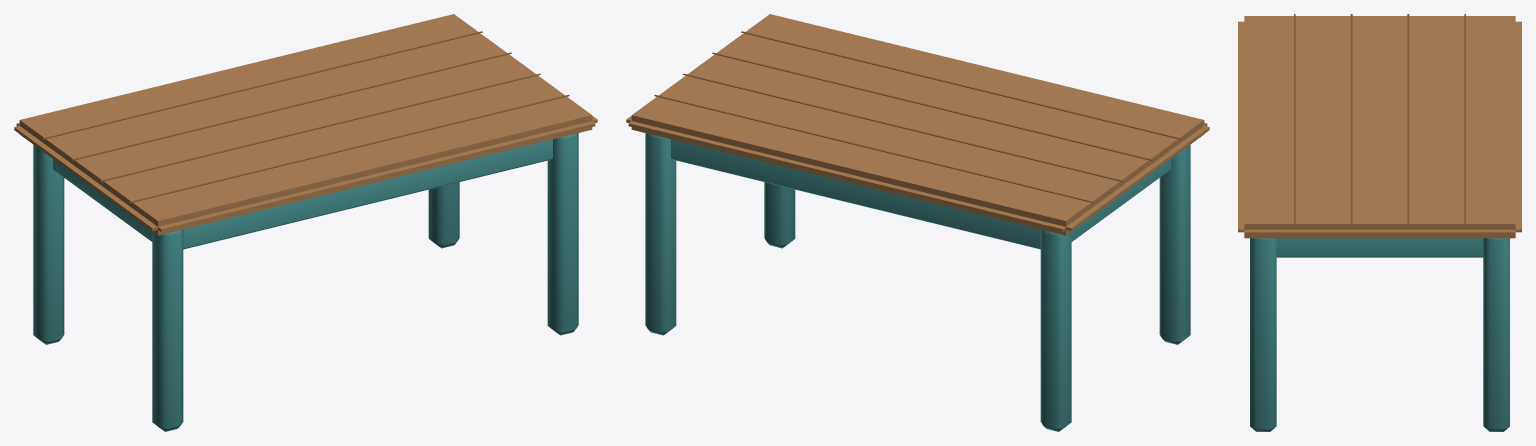
File: DiningTable_Rect_01.glb
3 views of the same model, side by side, from view 1: azimuth 30°, elevation 25°; view 2: azimuth 150°, elevation 25°; view 3: azimuth 270°, elevation 25° (orthographic).
Parts seen in each view (by area): view 1: SM_DiningTable_Rect_01; view 2: SM_DiningTable_Rect_01; view 3: SM_DiningTable_Rect_01.
Boxes of the visible parts, x1,y1,x2,y2 form: SM_DiningTable_Rect_01: (14,14,597,431); SM_DiningTable_Rect_01: (626,14,1209,431); SM_DiningTable_Rect_01: (1238,14,1521,431).
Size of the model in its own units: 1.6 by 0.752 by 0.9.
Materials: 1 (1 with a texture image).
